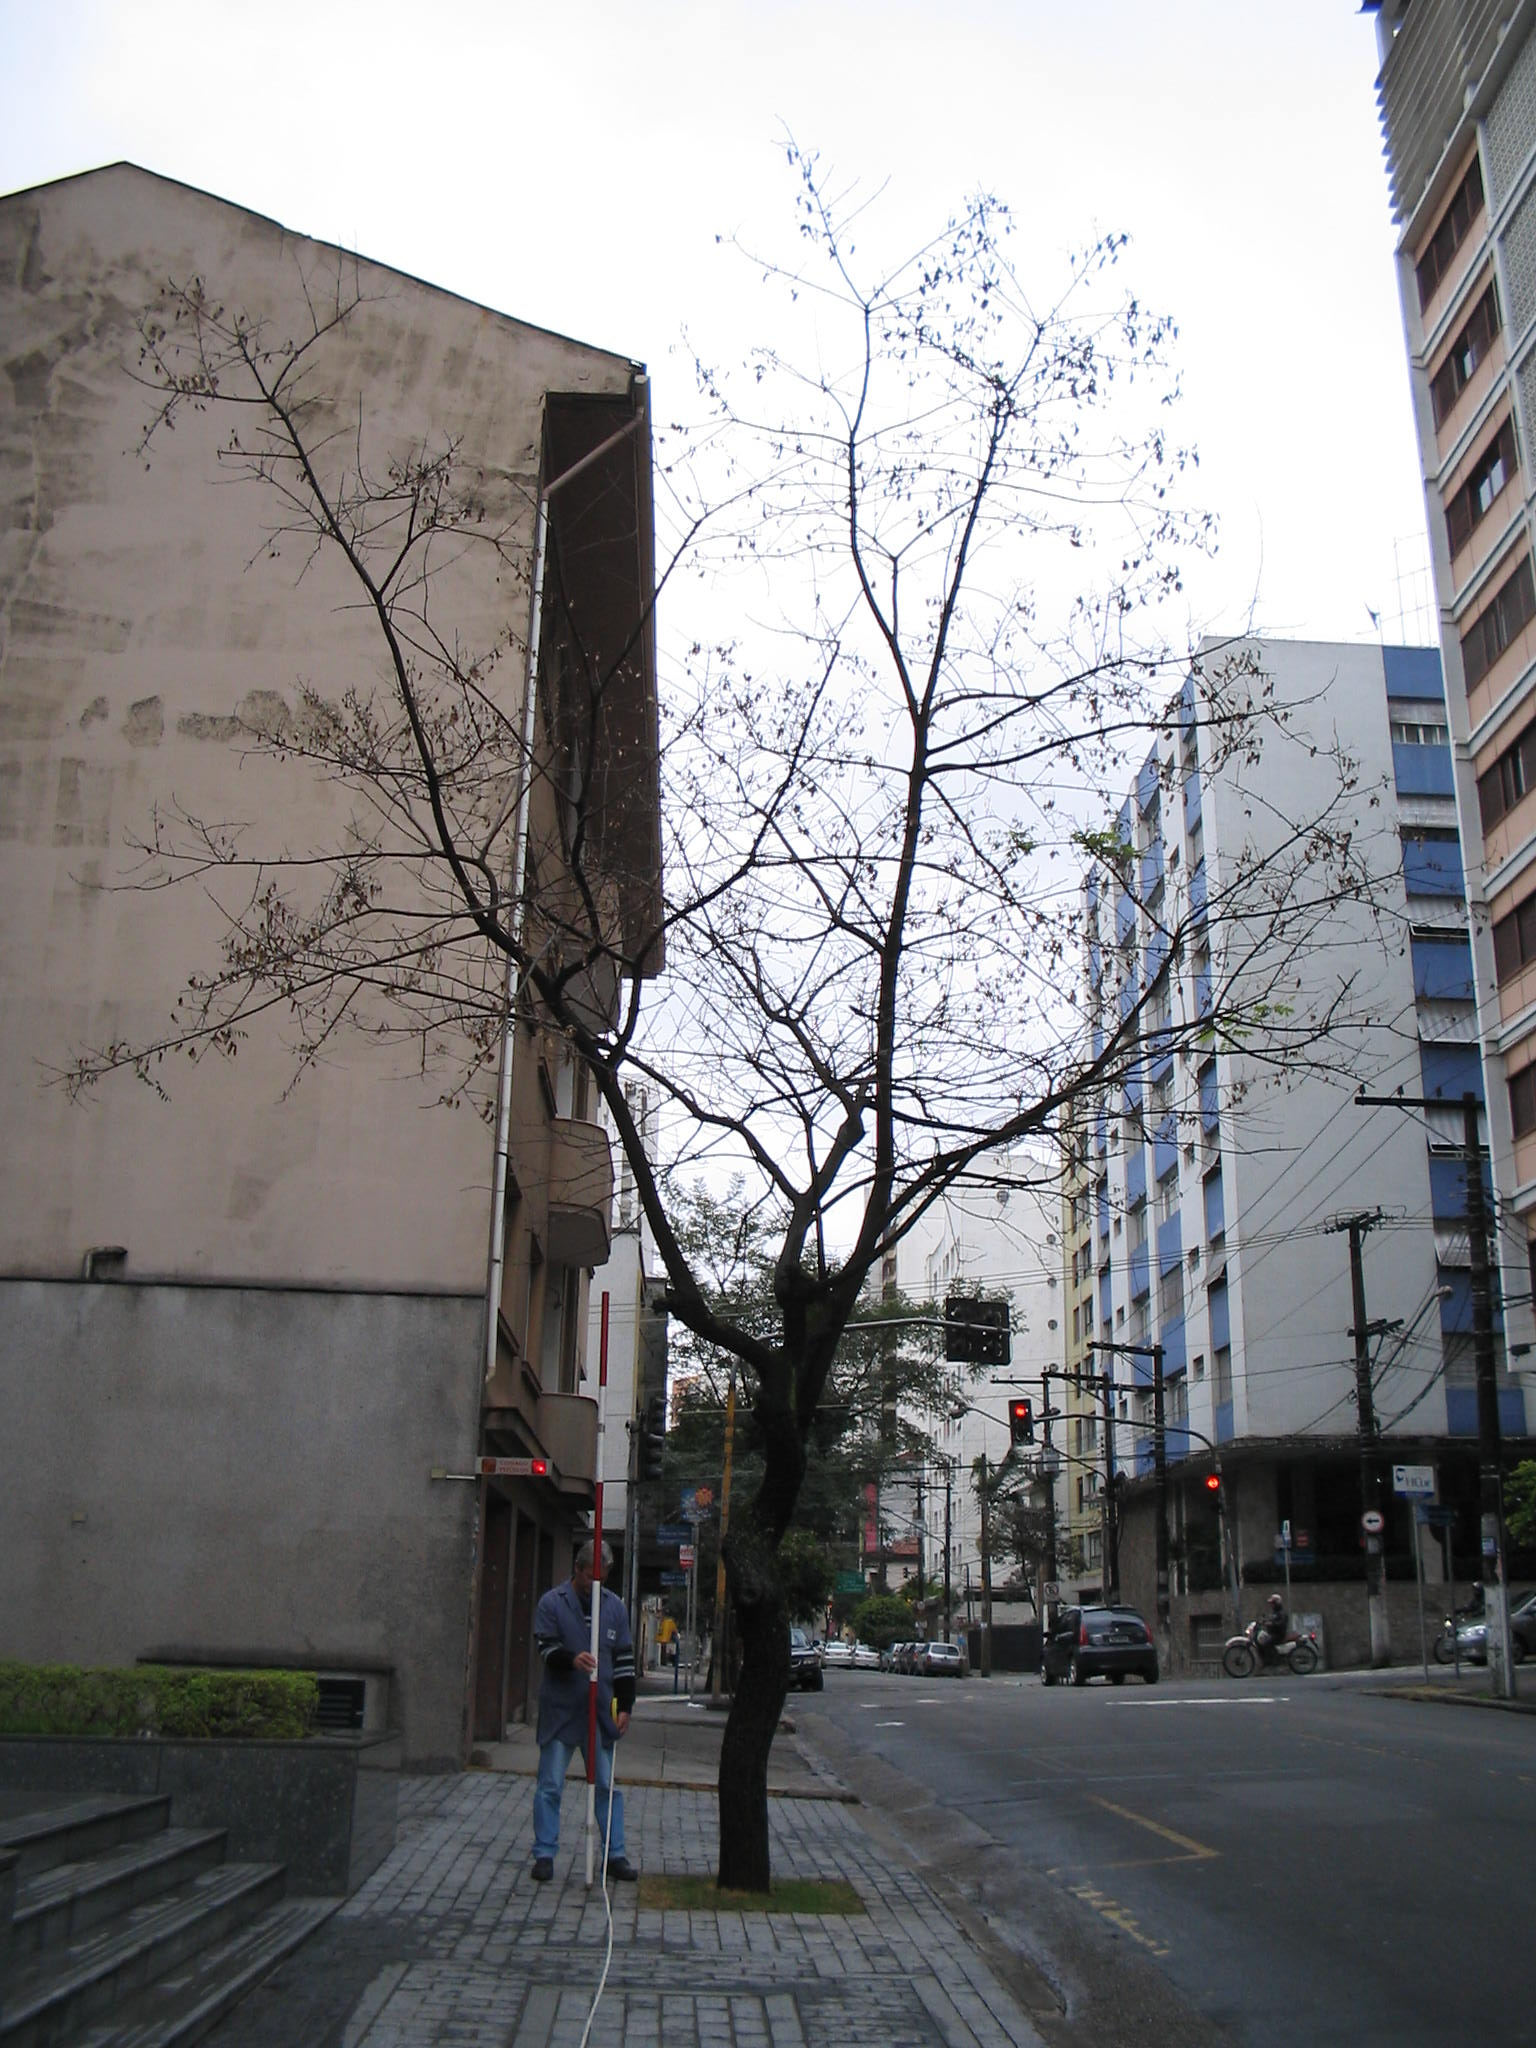stem: (682, 1432, 823, 1895)
stick: (558, 1290, 624, 1884)
tree: (52, 116, 1494, 1892)
